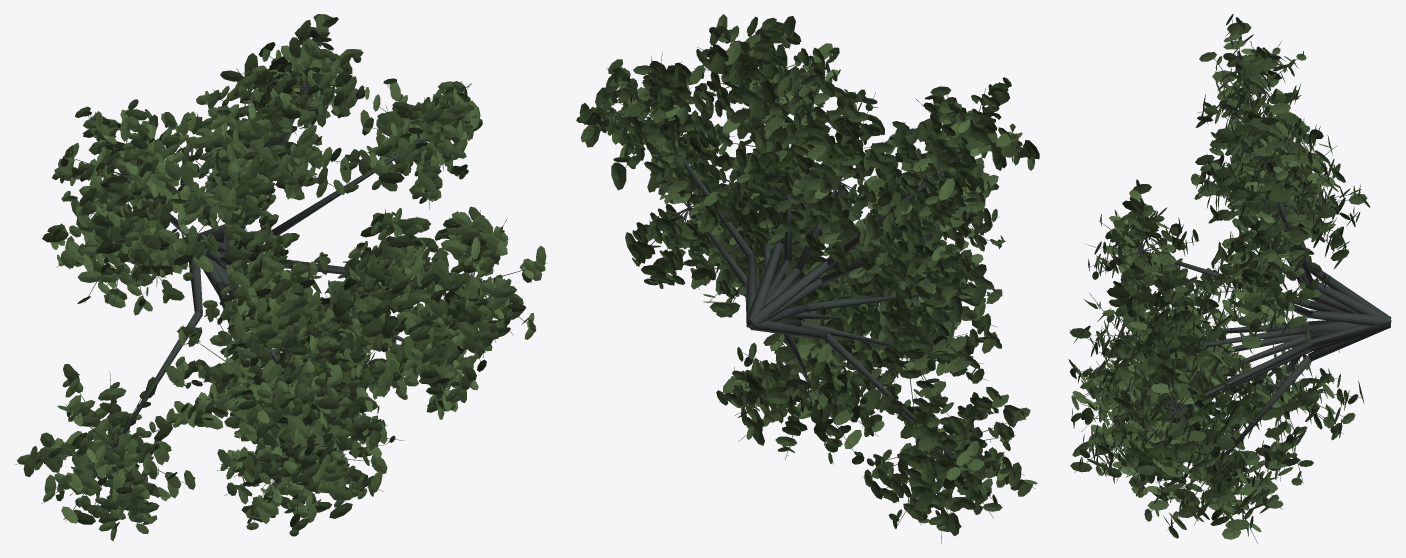
File: tree_m1.obj
3 views of the same model, side by side, from view 1: azimuth 30°, elevation 25°; view 2: azimuth 150°, elevation 25°; view 3: azimuth 270°, elevation 25° (orthographic). The views are drawn at different scales.
Size of the model in its own units: 1.64 by 1.63 by 1.02.
Materials: 1 (1 with a texture image).
